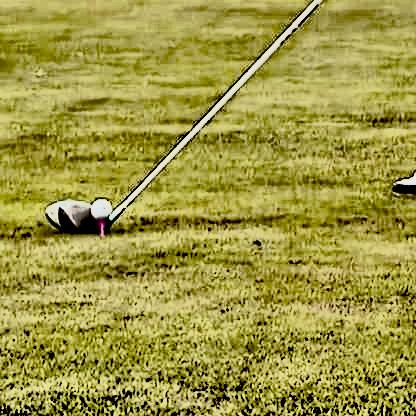golfball: (86, 196, 111, 220)
